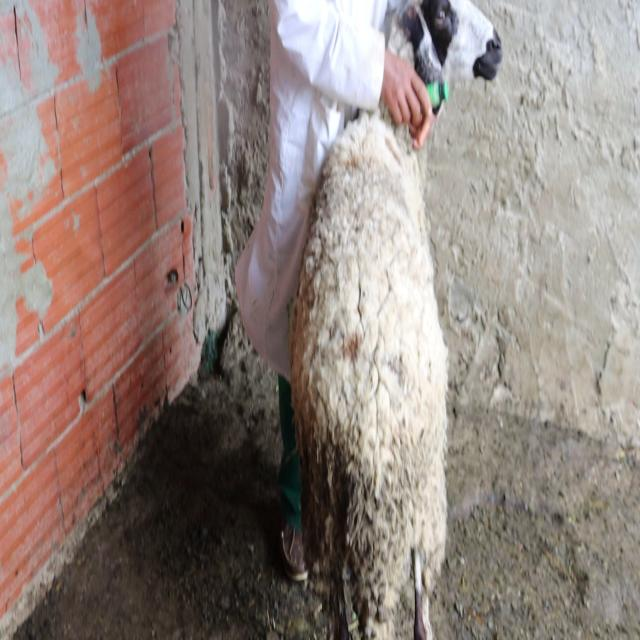Score_3: (290, 110, 448, 639)
